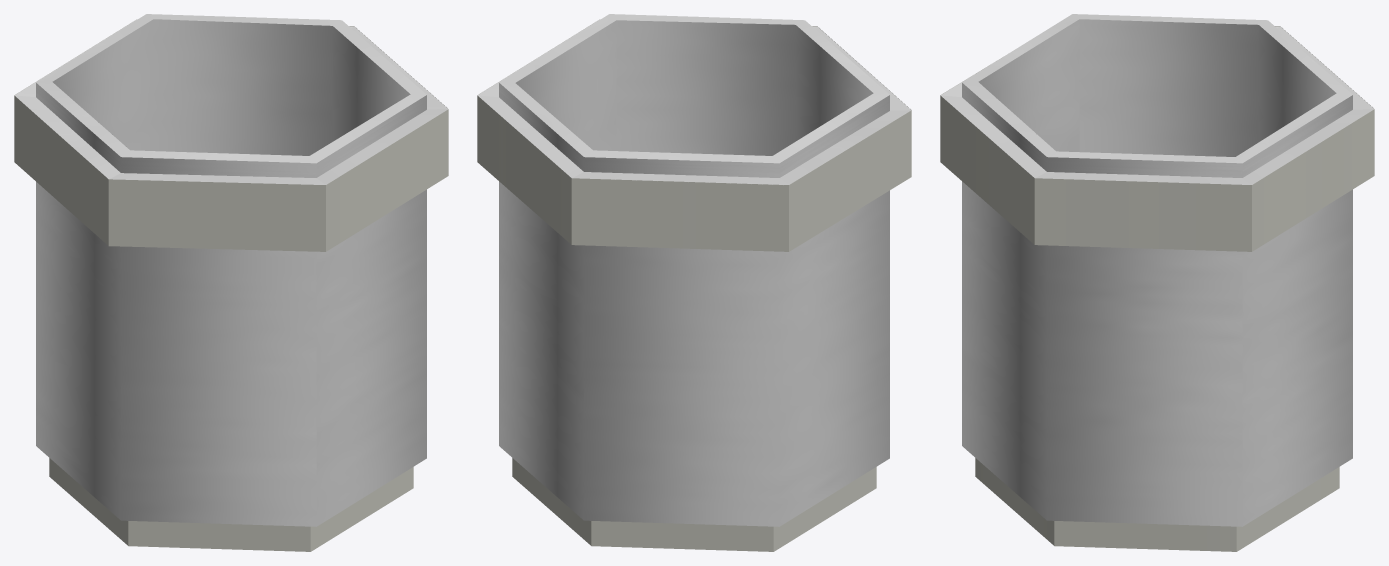
Rendered from SM_光谱仪_试管.FBX.
The picture shows the model from 3 angles, left to right: view 1: azimuth 30°, elevation 25°; view 2: azimuth 150°, elevation 25°; view 3: azimuth 270°, elevation 25°; orthographic projection.
Visible parts, largest first — view 1: SM_消解罐_01; view 2: SM_消解罐_01; view 3: SM_消解罐_01.
Boxes of the visible parts, left/top/right/bottom form: SM_消解罐_01: left=14, top=14, right=448, bottom=551; SM_消解罐_01: left=477, top=14, right=911, bottom=551; SM_消解罐_01: left=940, top=14, right=1374, bottom=551.
Size of the model in its own units: 14.6 by 16.2 by 16.16.
